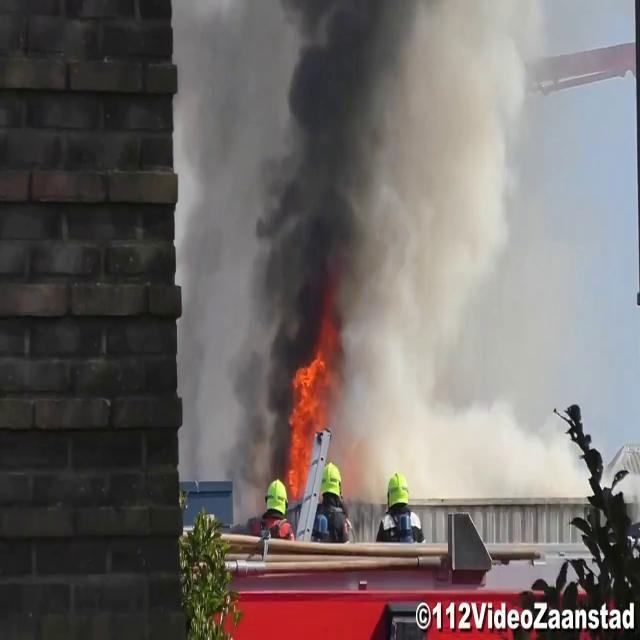Fire: (275, 341, 335, 500)
Smoke: (166, 1, 434, 454), (366, 3, 592, 510)
